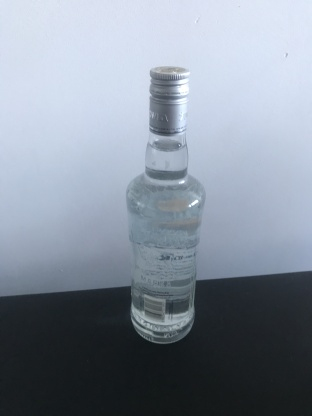nakretka: (148, 62, 190, 137)
